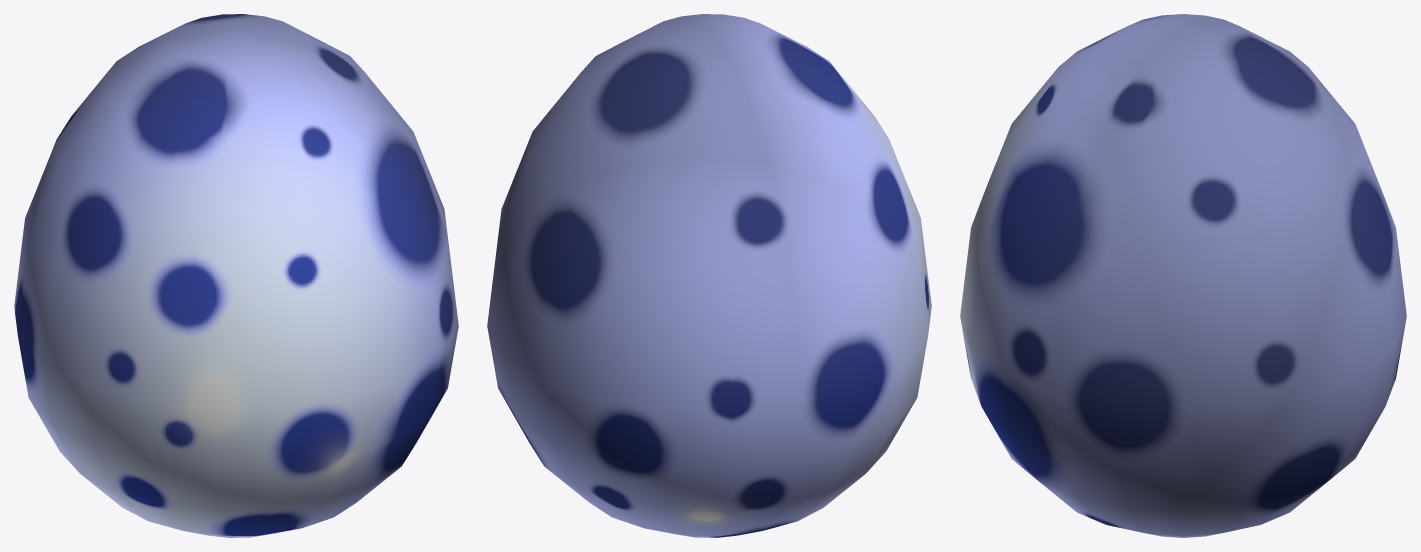
File: 57_Ball_DinoEgg.fbx
3 views of the same model, side by side, from view 1: azimuth 30°, elevation 25°; view 2: azimuth 150°, elevation 25°; view 3: azimuth 270°, elevation 25° (orthographic).
Visible parts, largest first — view 1: Ball_DinoEgg; view 2: Ball_DinoEgg; view 3: Ball_DinoEgg.
Part boxes in pixels (left/top/right/bottom): Ball_DinoEgg: left=14, top=14, right=458, bottom=537; Ball_DinoEgg: left=487, top=14, right=931, bottom=537; Ball_DinoEgg: left=960, top=14, right=1406, bottom=537.
Bounding box in the file's own units: 0.3819 × 0.4619 × 0.3819.
